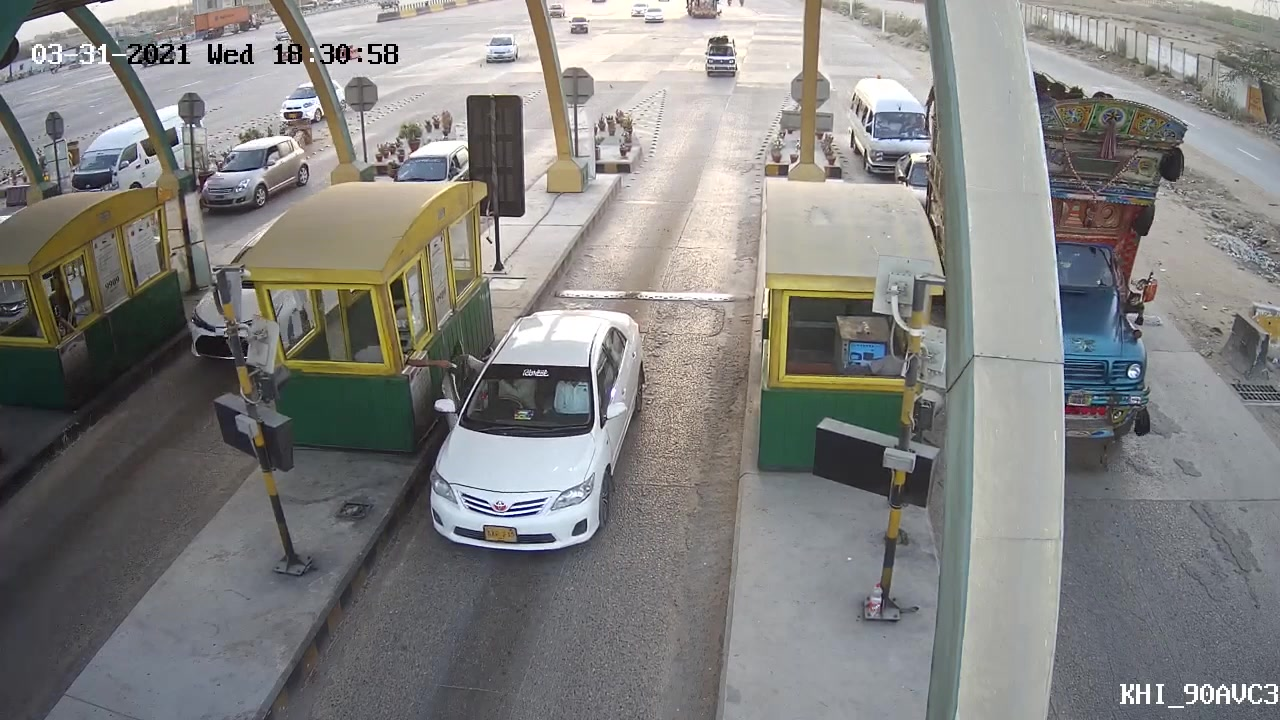F1: (434, 303, 654, 556)
